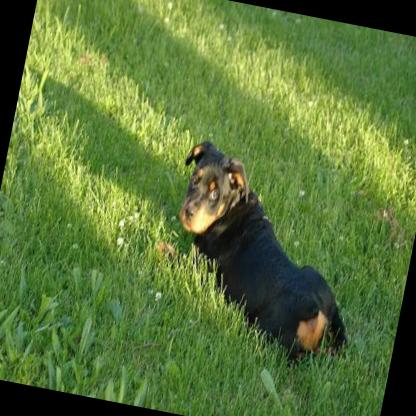Rottweiler: (140, 127, 380, 390)
